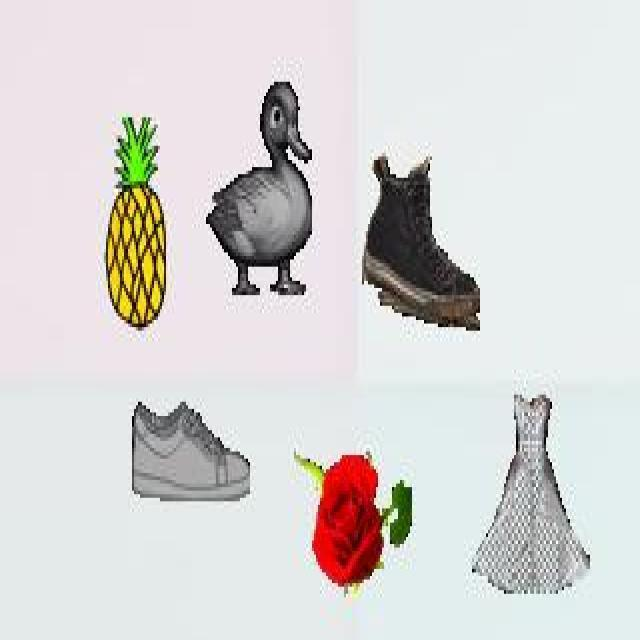Other Objects: (471, 391, 590, 596), (204, 80, 313, 298), (362, 150, 482, 334), (292, 446, 412, 595), (130, 399, 250, 503)
